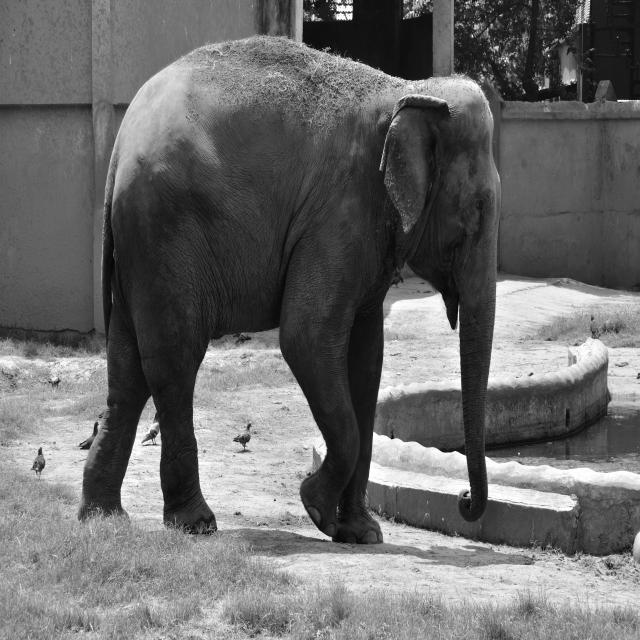Elephant: (77, 33, 504, 544)
